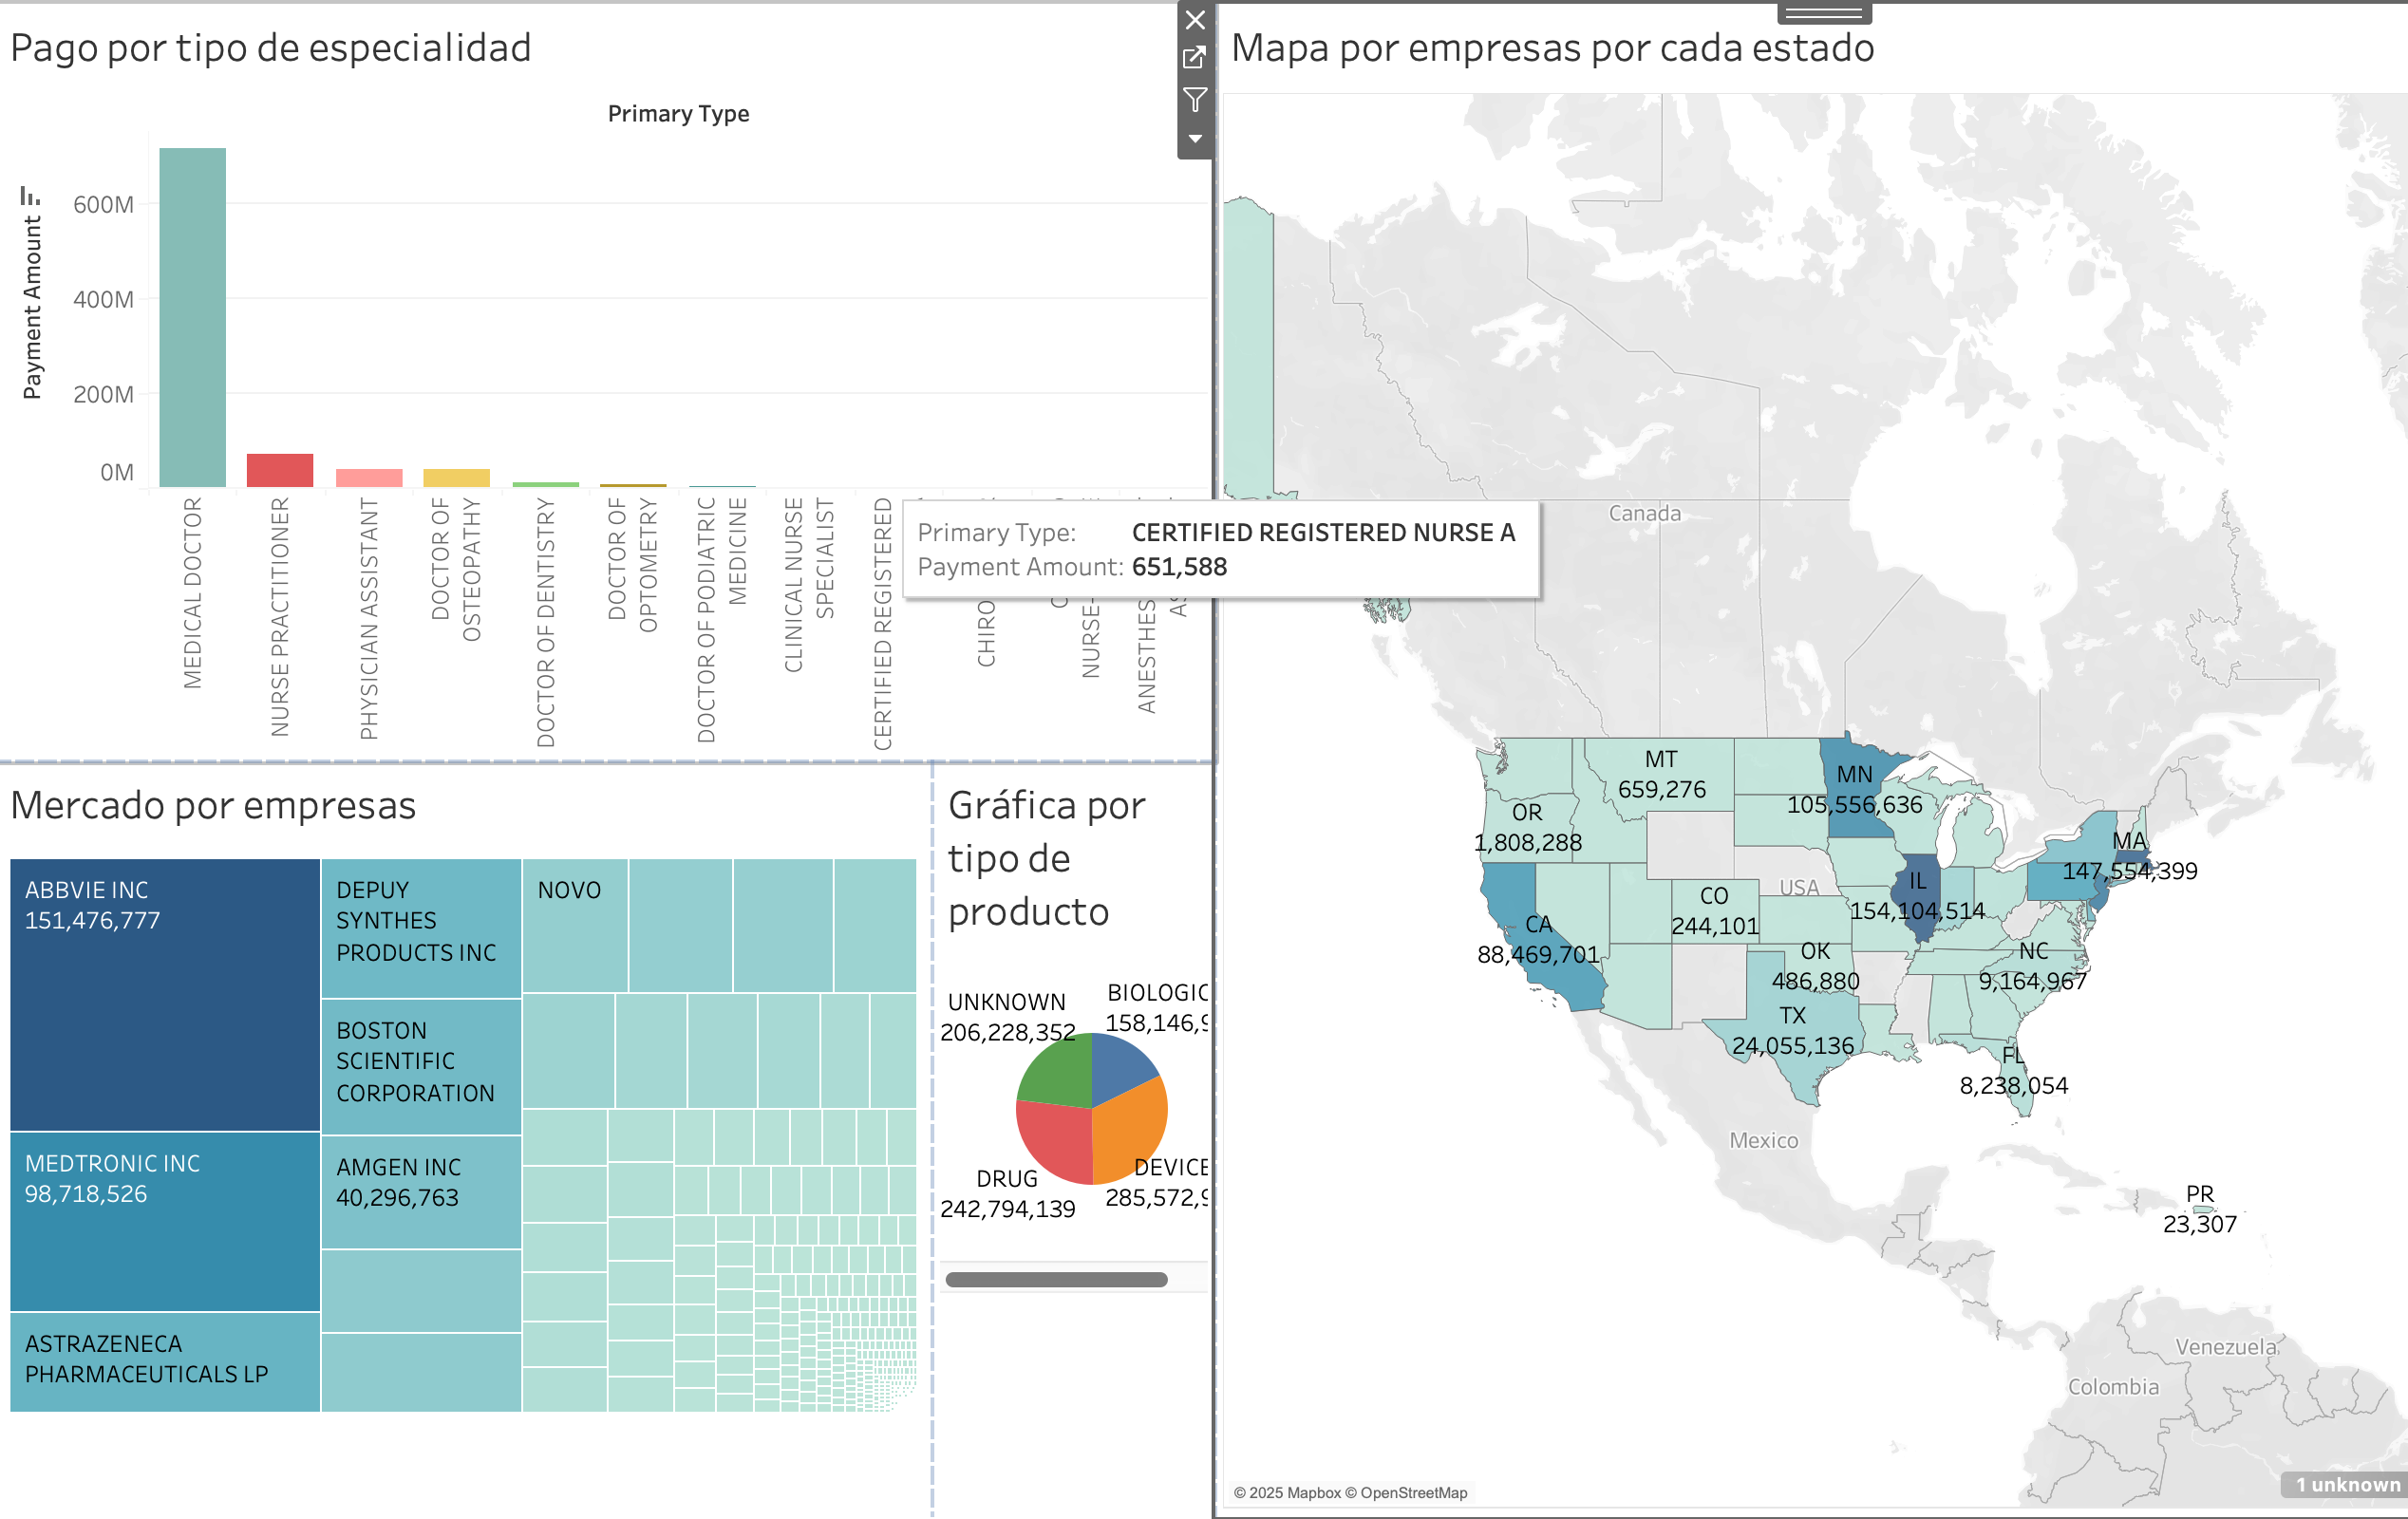

What the dashboard file says about the page in this screenshot:
{"tool":"tableau","page":{"name":"Dashboard 1","canvas":[1000,1000],"units":"permille","ordinal":0},"visuals":[{"type":"worksheet","title":"Sheet 2","mark":"Automatic","rows":["payment_amount"],"cols":["primary_type"],"box":[6.2,9.8,493.9,490.2]},{"type":"worksheet","title":"Sheet 4","mark":"Automatic","box":[500,9.8,493.9,980.3]},{"type":"worksheet","title":"Sheet 5","mark":"Automatic","box":[6.2,500,379.7,490.2]},{"type":"worksheet","title":"Sheet 3","mark":"Pie","box":[385.9,500,114.1,490.2]}]}

Visuals, with their boxes on the dashboard's canvas, which has no fixed pixel size, in thousandths of its width and height (x1, y1, x2, y2). These are canvas units, not pixel positions in the 2408x1519 screenshot, which may show the page scaled, cropped or inside an application window:
"Sheet 2" worksheet: [left=6, top=10, right=500, bottom=500]
"Sheet 4" worksheet: [left=500, top=10, right=994, bottom=990]
"Sheet 5" worksheet: [left=6, top=500, right=386, bottom=990]
"Sheet 3" worksheet (Pie marks): [left=386, top=500, right=500, bottom=990]
